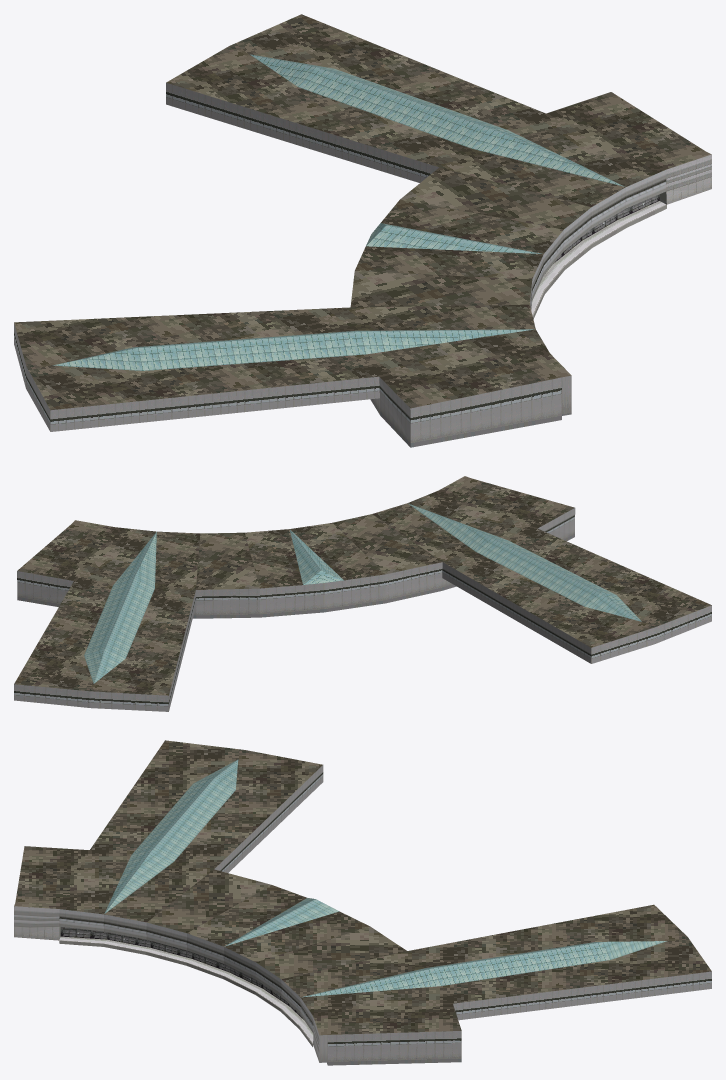
File: lodport_02_sfse.obj
3 views of the same model, one above another, from view 1: azimuth 30°, elevation 25°; view 2: azimuth 150°, elevation 25°; view 3: azimuth 270°, elevation 25° (orthographic). The views are drawn at different scales.
Parts seen in each view (by area): view 1: LODport_02_SFSe; view 2: LODport_02_SFSe; view 3: LODport_02_SFSe.
Part boxes in pixels (x1=…): LODport_02_SFSe: x1=14, y1=14, x2=711, y2=447; LODport_02_SFSe: x1=14, y1=476, x2=711, y2=711; LODport_02_SFSe: x1=14, y1=740, x2=711, y2=1065.
Bounding box in the file's own units: 248 × 17.07 × 248.
5 materials, 5 textured.
